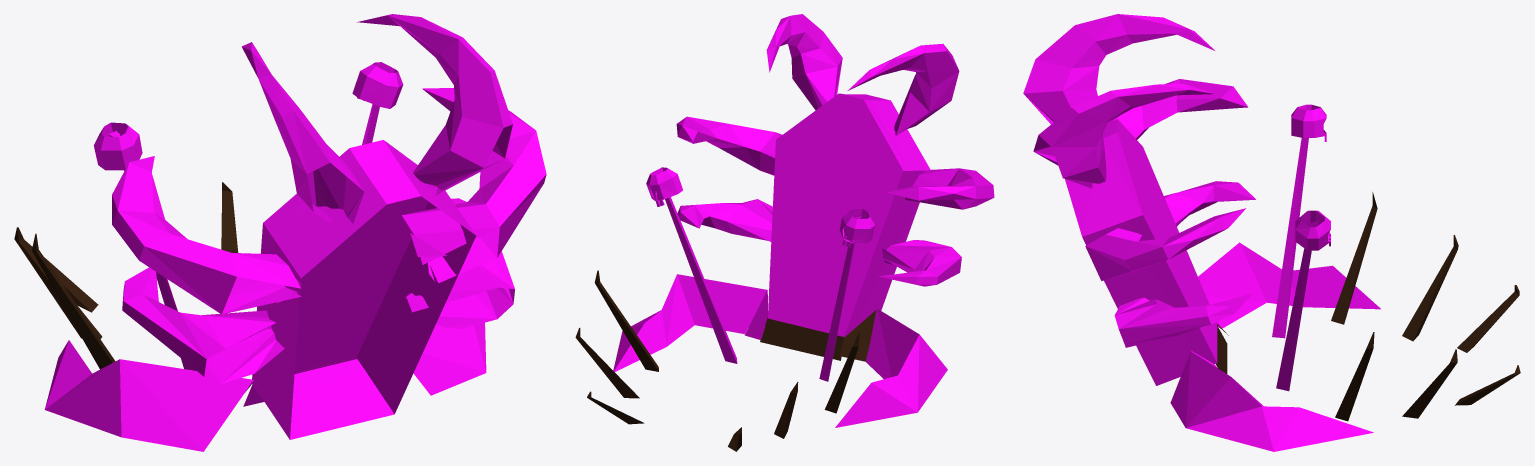
The model's file is hazeeltomb.obj.
The picture shows the model from 3 angles, left to right: view 1: azimuth 30°, elevation 25°; view 2: azimuth 150°, elevation 25°; view 3: azimuth 270°, elevation 25°; orthographic projection. The views are drawn at different scales.
Parts seen in each view (by area): view 1: hazeeltomb_front, hazeeltomb_back; view 2: hazeeltomb_front, hazeeltomb_back; view 3: hazeeltomb_front, hazeeltomb_back.
Part boxes in pixels (x1,y1,x2,y2): hazeeltomb_front: (14,14,546,451); hazeeltomb_back: (26,104,475,439); hazeeltomb_front: (613,14,994,438); hazeeltomb_back: (575,93,930,451); hazeeltomb_front: (1023,14,1458,451); hazeeltomb_back: (1065,119,1520,421).
Bounding box in the file's own units: 3.9 × 3.49 × 4.9.
